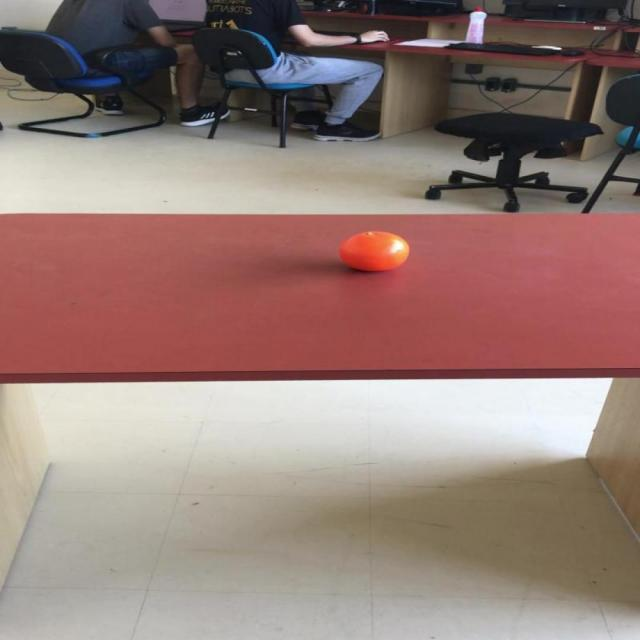Orange: (338, 230, 409, 271)
